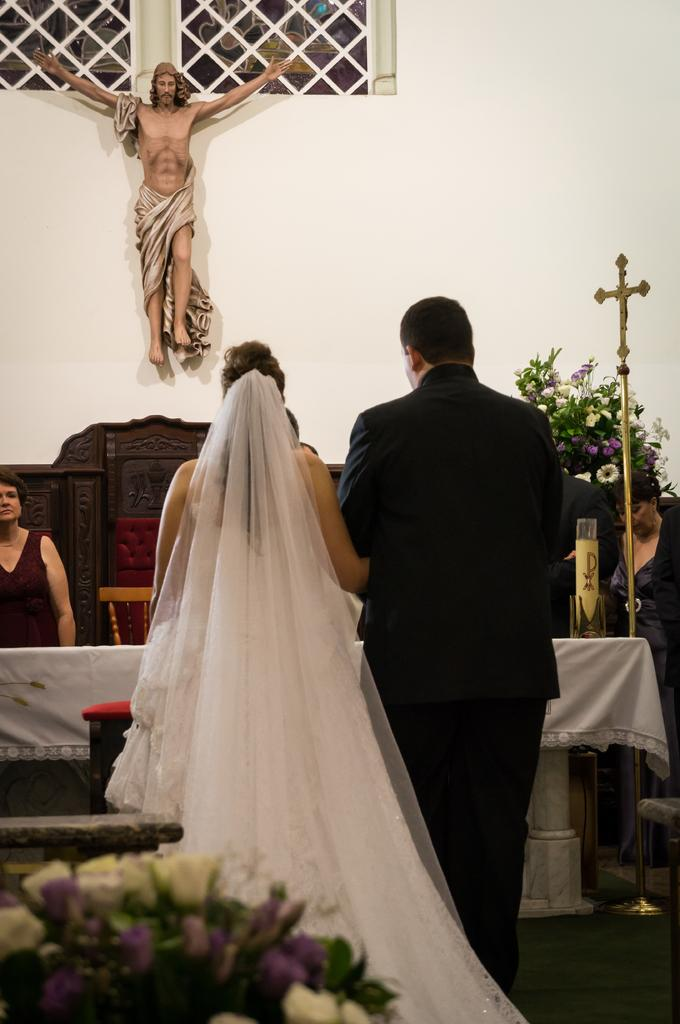Sem Máscara: (0, 482, 30, 529), (149, 73, 172, 110)
